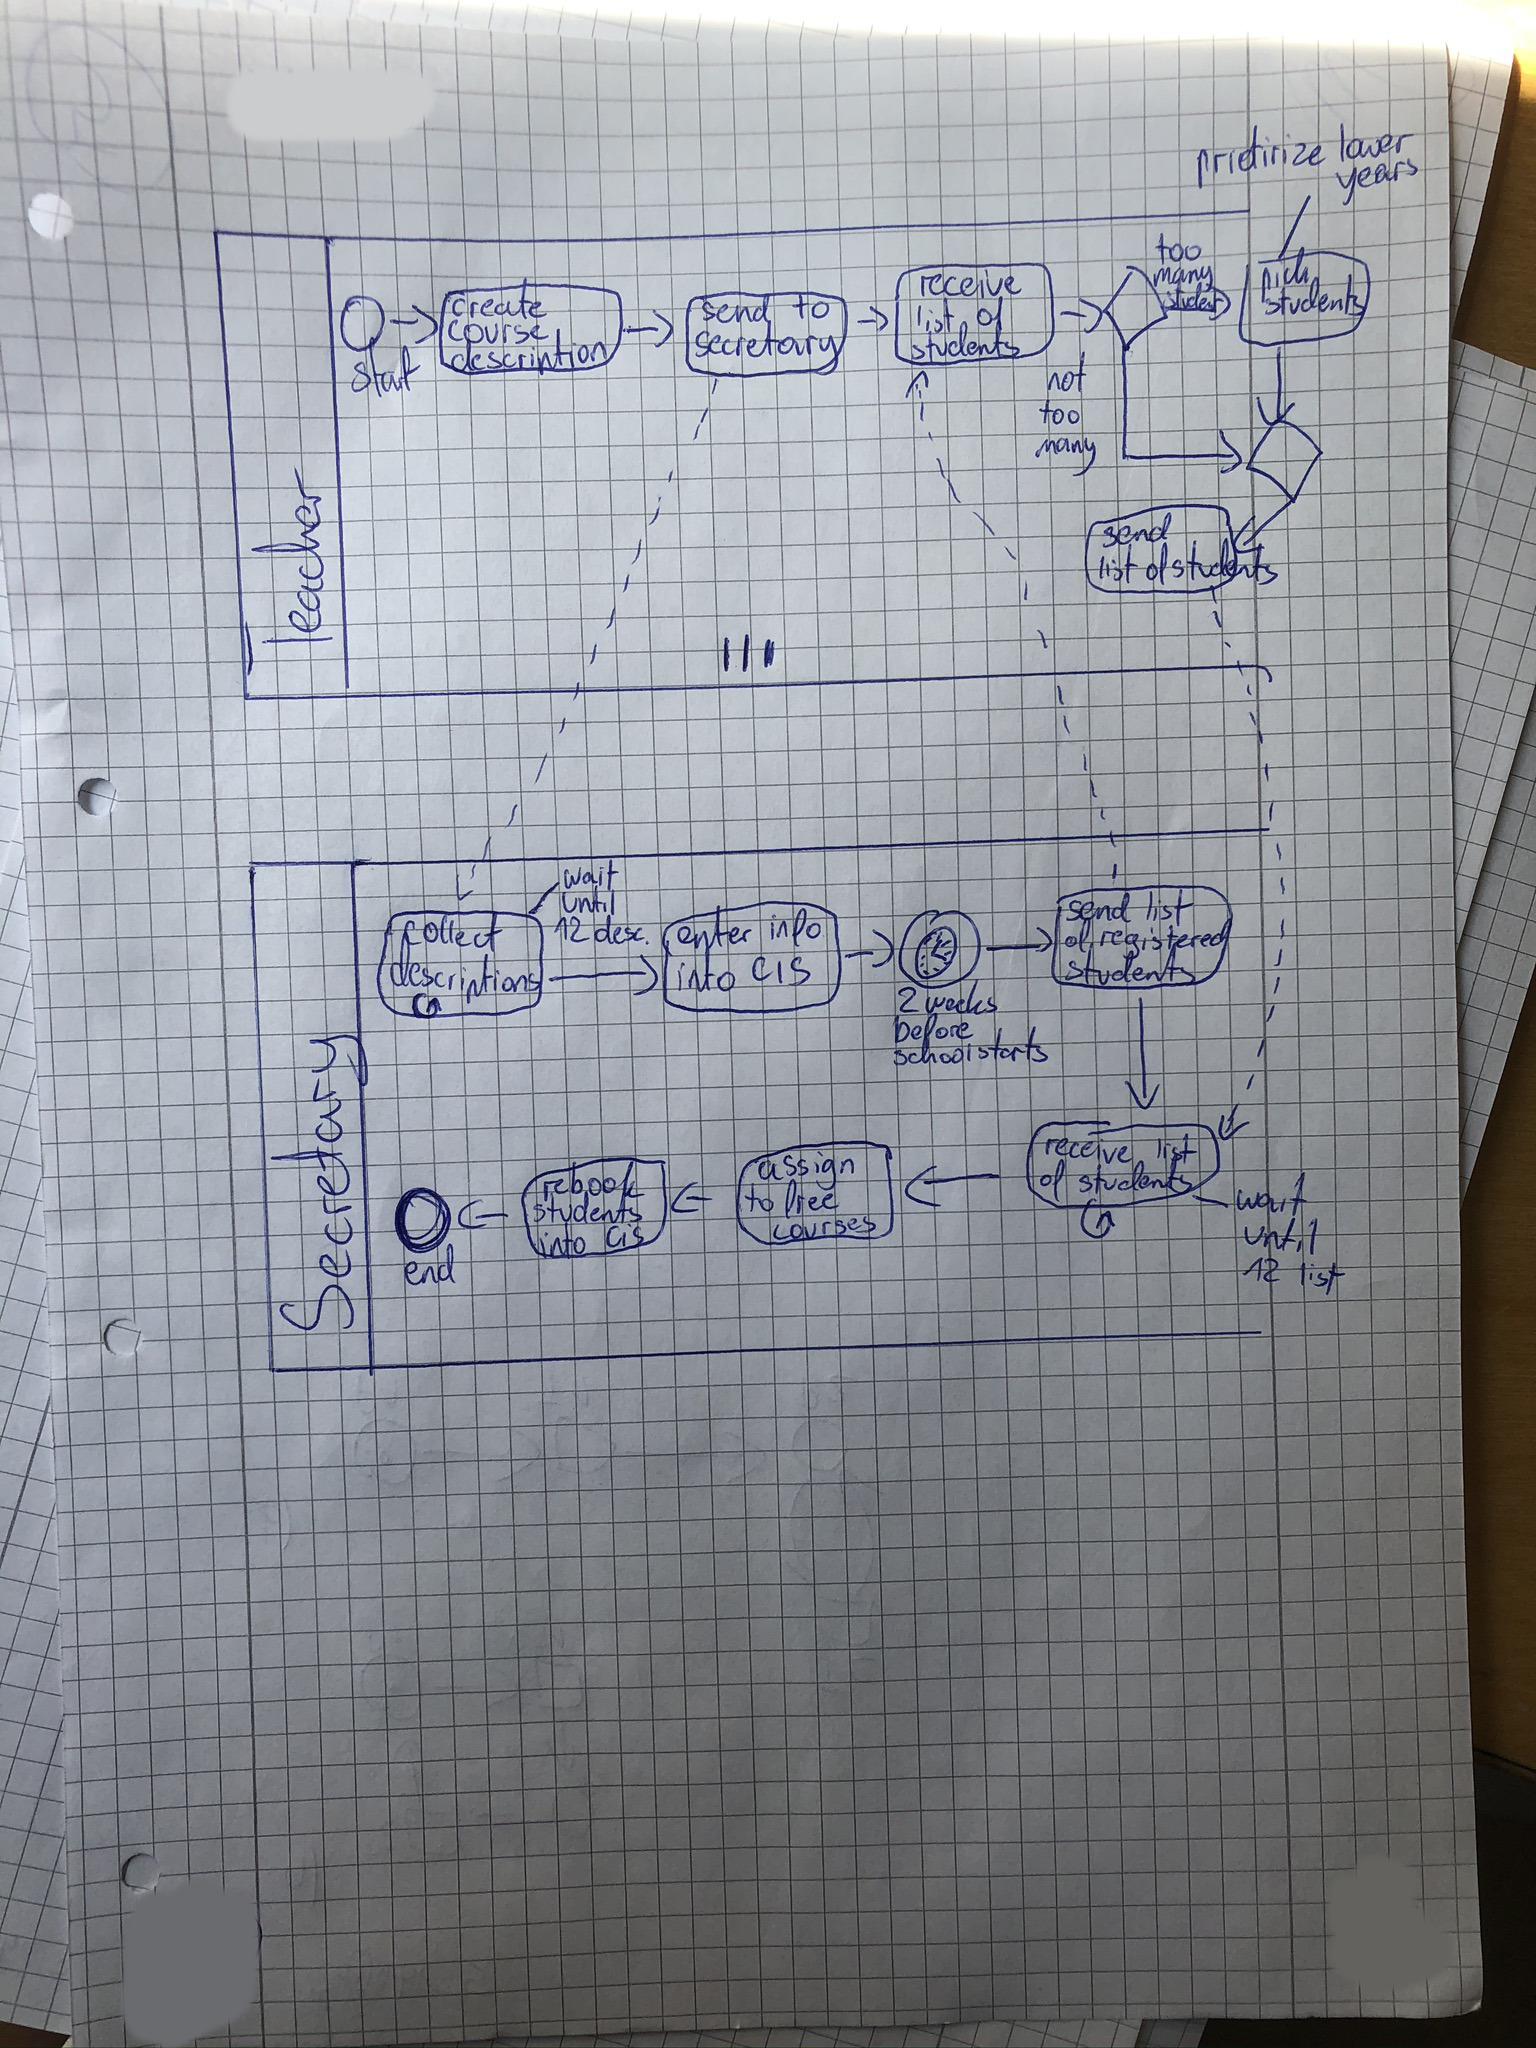12: (1241, 1253, 1280, 1287), (555, 915, 593, 949)
2: (896, 984, 923, 1017)
CIS: (751, 950, 812, 992), (603, 1220, 648, 1250)
III: (711, 630, 778, 674)
Secretary: (268, 1033, 368, 1334)
Start: (351, 344, 426, 396)
assign: (755, 1150, 856, 1187)
before: (890, 1015, 980, 1046)
collect: (401, 916, 508, 949)
course: (447, 320, 546, 347)
courses: (765, 1223, 876, 1247)
create: (451, 279, 547, 321)
desc.: (596, 913, 651, 950)
description: (453, 336, 609, 376)
descriptions: (392, 946, 544, 997)
end: (397, 1245, 458, 1285)
enter: (677, 904, 753, 950)
free: (779, 1183, 839, 1219)
into: (675, 952, 741, 999), (766, 909, 827, 950), (534, 1226, 592, 1258)
list: (1137, 888, 1197, 927), (1093, 546, 1142, 589), (913, 299, 959, 337), (1299, 1262, 1345, 1297), (1152, 1130, 1199, 1164)
lower: (1337, 120, 1414, 164)
many: (1040, 435, 1100, 474), (1154, 264, 1215, 294)
not: (1045, 352, 1090, 396)
of: (974, 299, 1008, 333), (1037, 1162, 1068, 1199), (1068, 923, 1094, 959), (1148, 546, 1172, 587)
pick: (1259, 247, 1310, 293)
prioritize: (1193, 126, 1326, 185)
rebook: (540, 1163, 644, 1200)
receive: (916, 271, 1026, 301), (1045, 1129, 1131, 1165)
registered: (1093, 927, 1232, 951)
school: (891, 1039, 976, 1071)
secretary: (692, 322, 843, 376)
send: (1062, 893, 1131, 924), (1103, 514, 1173, 545), (699, 296, 772, 325)
starts: (979, 1030, 1053, 1063)
student: (1162, 287, 1227, 314)
students: (1172, 543, 1285, 586), (1075, 1161, 1196, 1195), (1065, 954, 1197, 986), (1265, 284, 1365, 321), (913, 332, 1024, 365), (530, 1197, 645, 1227)
teacher: (248, 463, 329, 646)
to: (745, 1184, 776, 1219), (790, 298, 833, 323)
too: (1153, 235, 1204, 265), (1039, 400, 1082, 425)
unfit: (1239, 1217, 1319, 1256)
until: (562, 888, 617, 919)
wait: (1234, 1170, 1308, 1214), (563, 858, 621, 889)
weeks: (930, 985, 996, 1020)
years: (1334, 171, 1418, 206)
